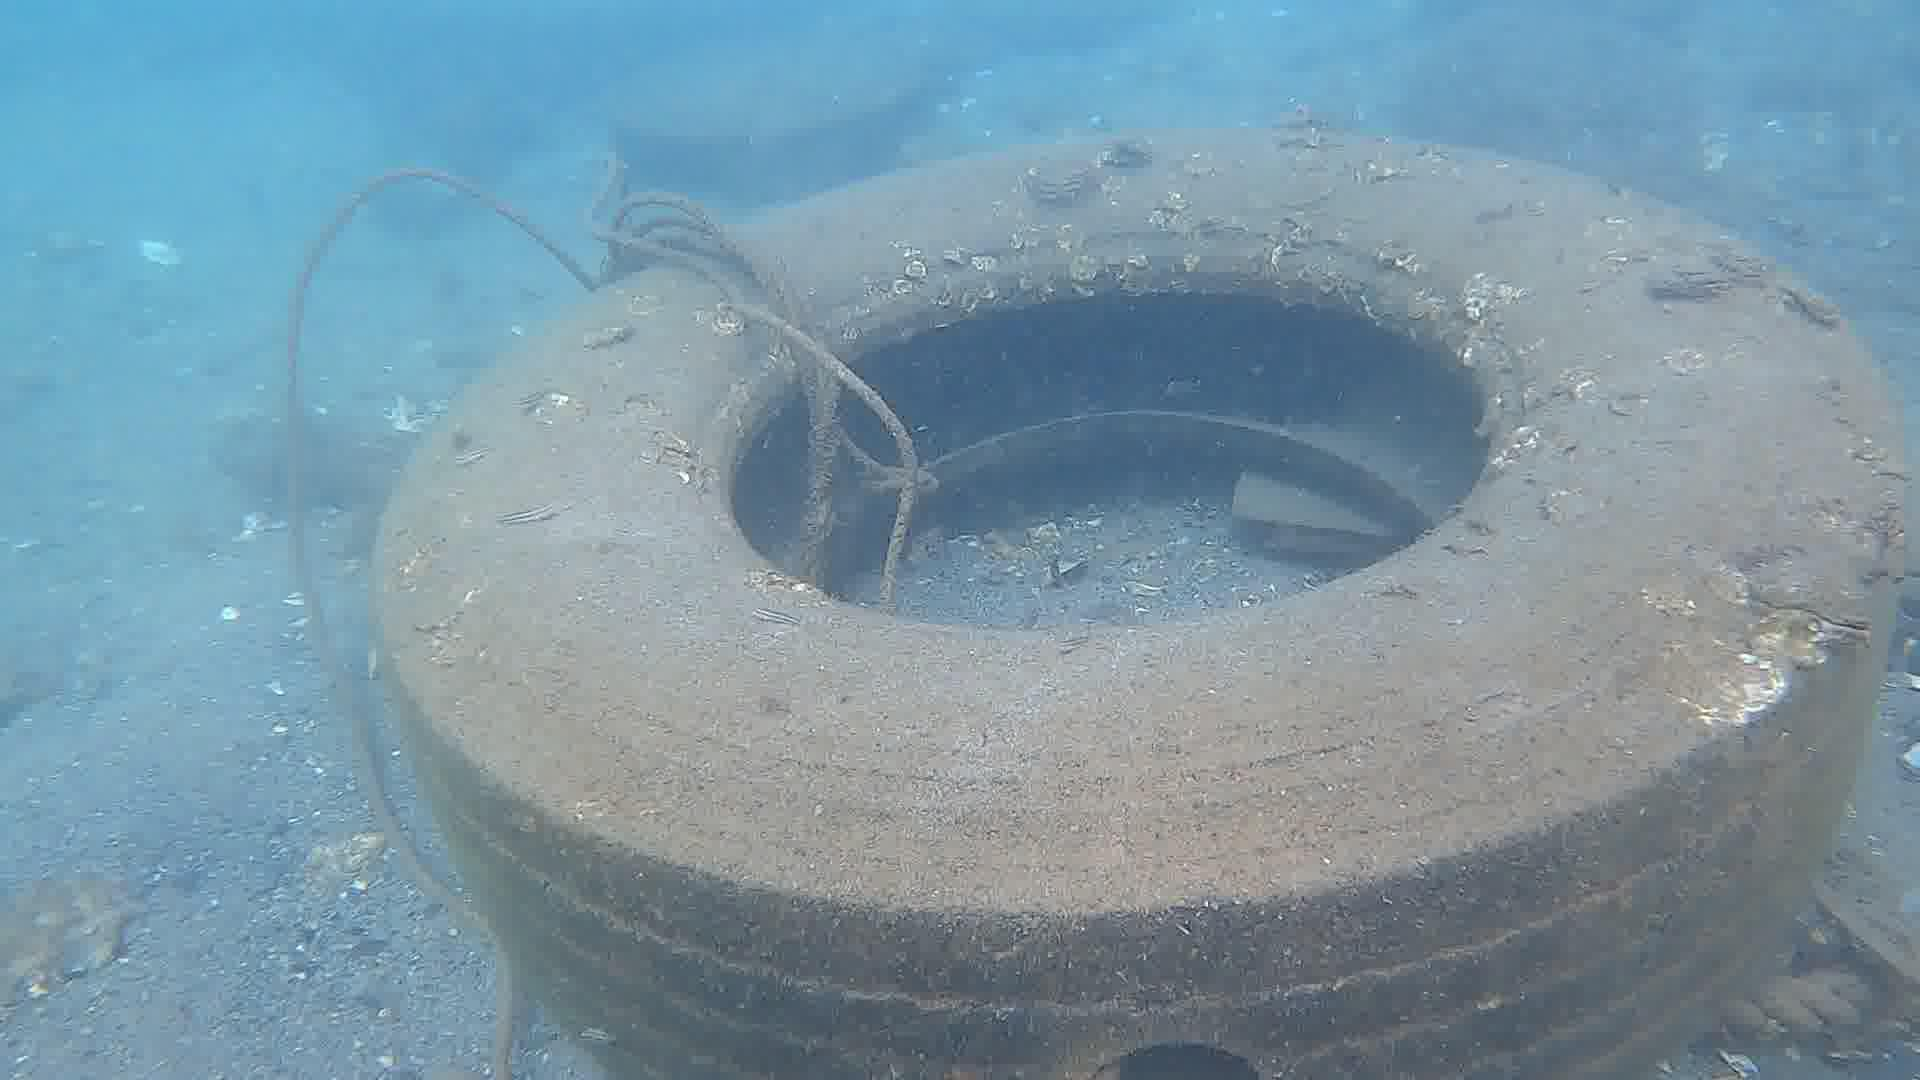bundle of ropes: (587, 149, 927, 607)
rope: (280, 157, 580, 1080), (1697, 959, 1873, 1043)
tire: (372, 136, 1902, 1080)
